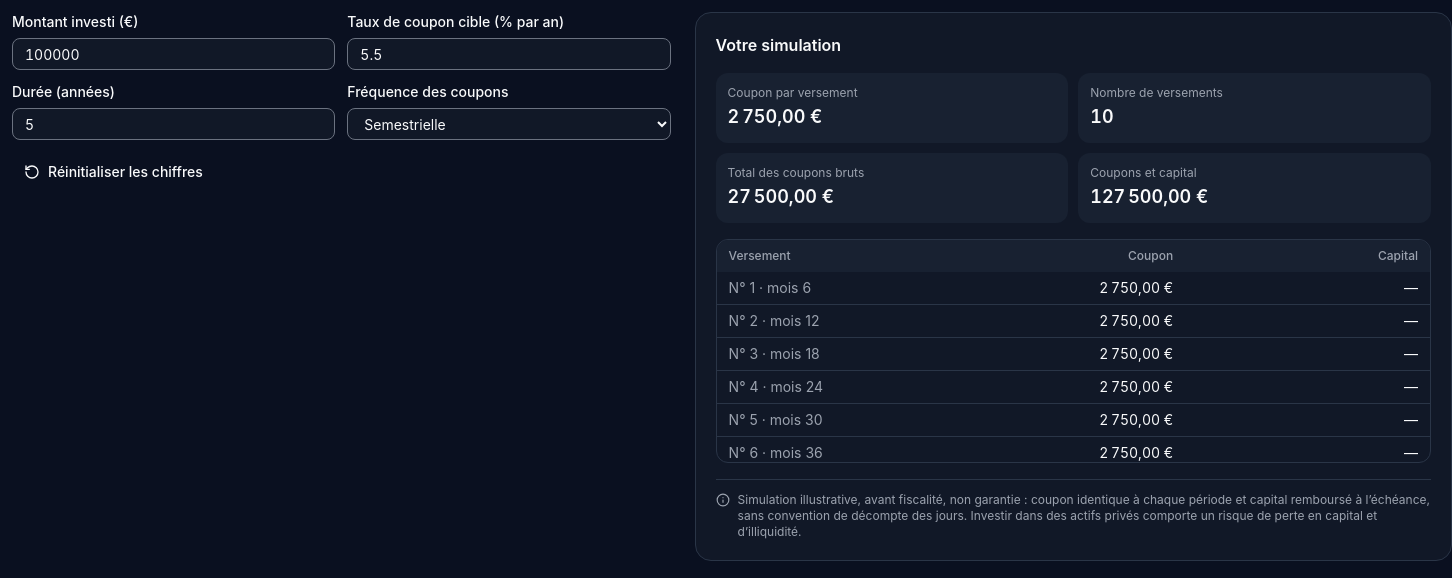
Test: investor coupon simulator (page) › explains an invalid figure, and says the simulation is only an illustration
The width and height of the screenshot is (1452, 578).
Replace the text in the field labelled "Durée (années)" with "40" at (174, 124), box [12,108,335,140]
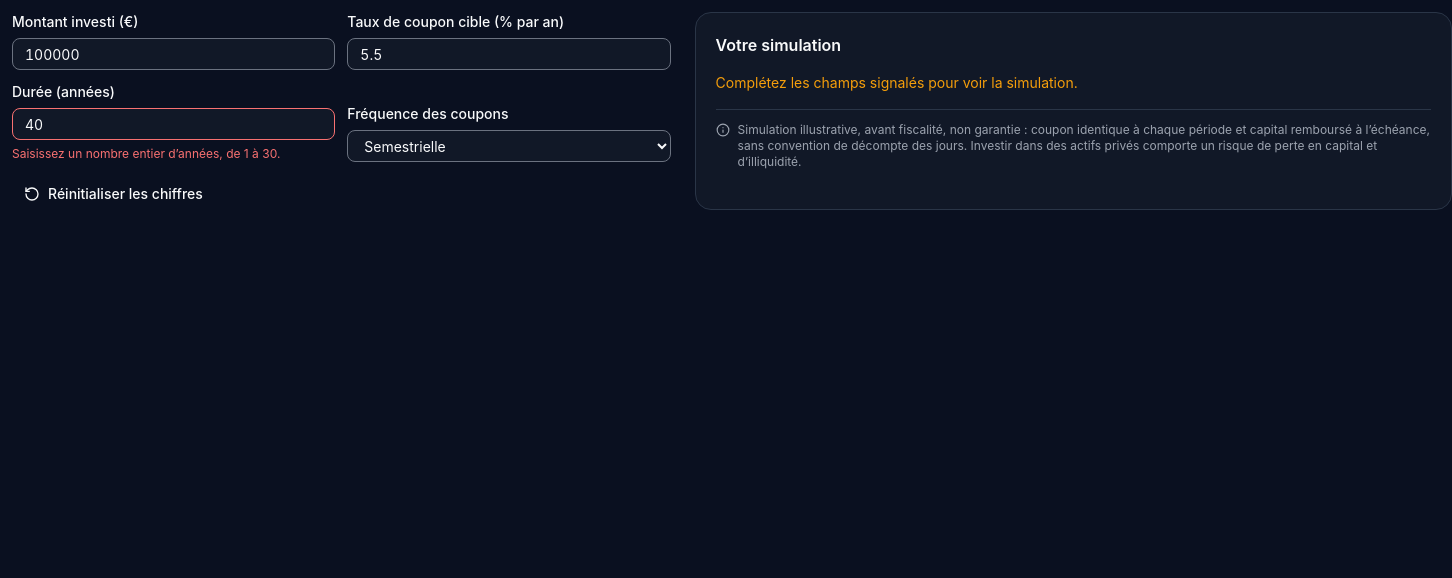
Expected: the text "Simulation illustrative, avant fiscalité, non garantie" is shown, [738,122,1430,169]
Result: the text "Saisissez un nombre entier d’années, de 1 à 30." is shown at [12,146,280,161]
Result: the text "Complétez les champs signalés pour voir la simulation." is shown at [716,74,1078,91]
